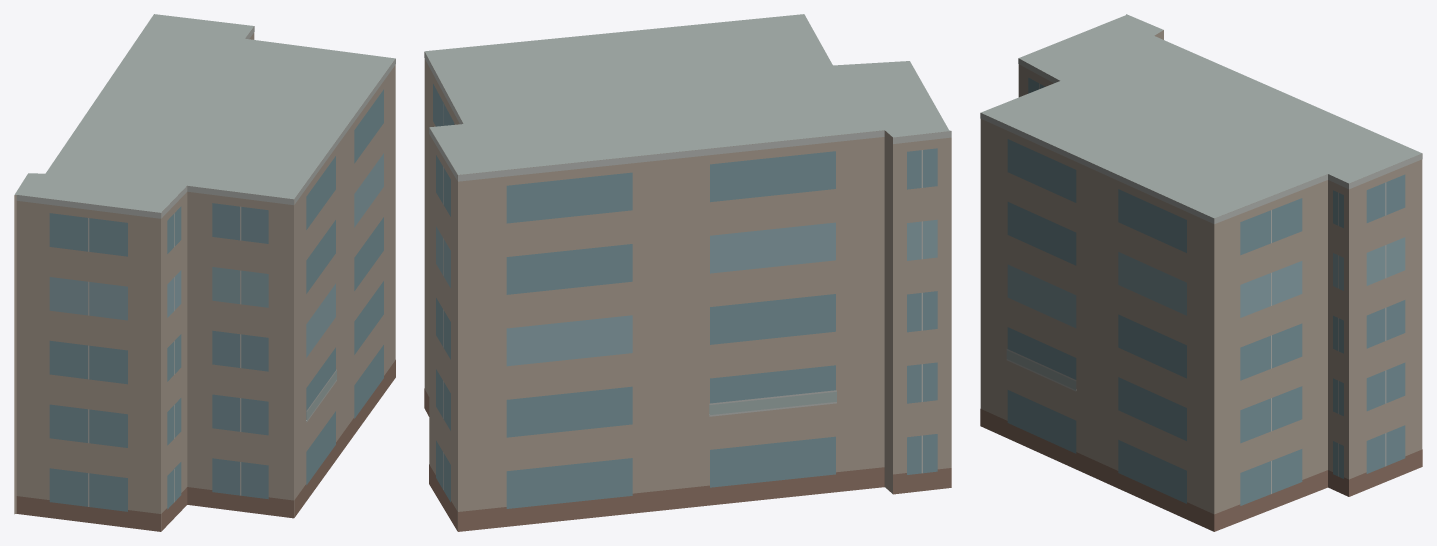
The model's file is survey-upis-32918695.glb.
3 views of the same model, side by side, from view 1: azimuth 30°, elevation 25°; view 2: azimuth 150°, elevation 25°; view 3: azimuth 270°, elevation 25° (orthographic). The views are drawn at different scales.
Parts seen in each view (by area): view 1: survey-upis-32918695.tmp; view 2: survey-upis-32918695.tmp; view 3: survey-upis-32918695.tmp.
Part boxes in pixels (x1=…): survey-upis-32918695.tmp: x1=14, y1=14, x2=395, y2=531; survey-upis-32918695.tmp: x1=424, y1=14, x2=951, y2=531; survey-upis-32918695.tmp: x1=980, y1=14, x2=1422, y2=531.
Size of the model in its own units: 18.33 by 13.1 by 16.75.
